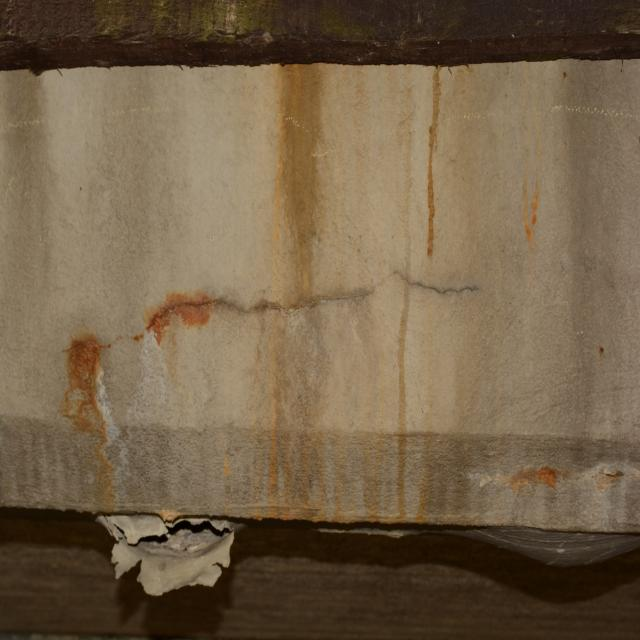corrosion: (252, 61, 339, 527), (54, 307, 120, 503), (127, 282, 220, 350), (506, 453, 563, 502), (519, 168, 545, 254)
